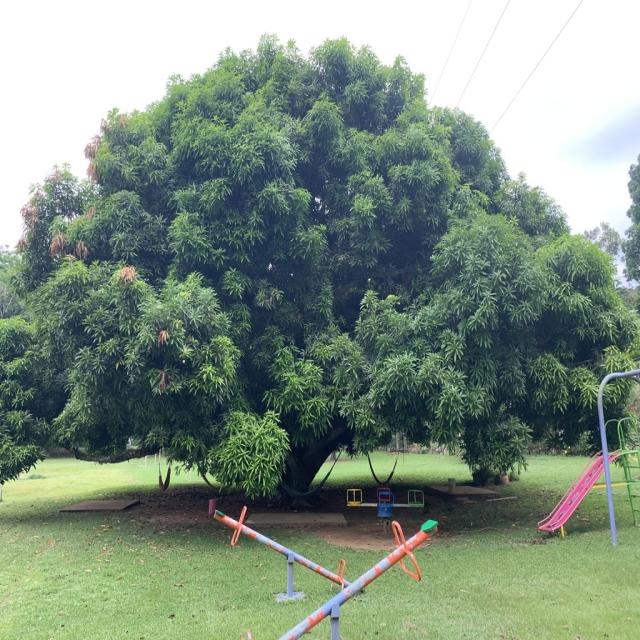Mango-Tree: (14, 37, 640, 485)
